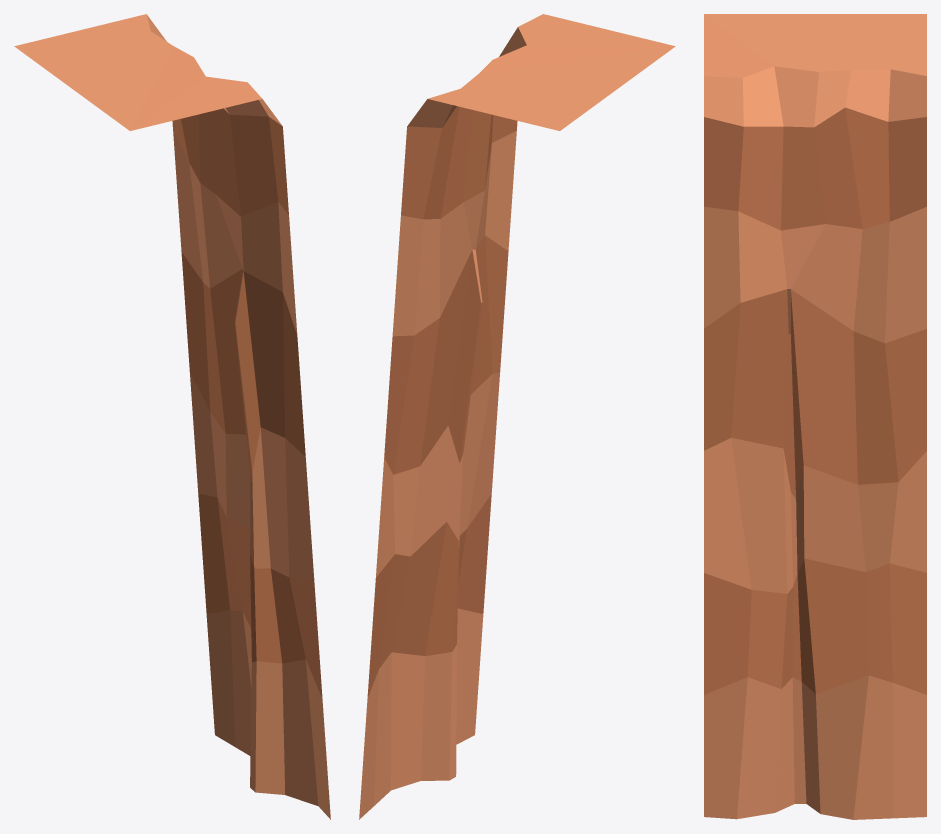
File: Straight_Cliff_1.fbx
The picture shows the model from 3 angles, left to right: view 1: azimuth 30°, elevation 25°; view 2: azimuth 150°, elevation 25°; view 3: azimuth 270°, elevation 25°; orthographic projection. The views are drawn at different scales.
Visible parts, largest first — view 1: Straight_Cliff_1; view 2: Straight_Cliff_1; view 3: Straight_Cliff_1.
Part boxes in pixels (x1,y1,x2,y2): Straight_Cliff_1: (14,14,330,819); Straight_Cliff_1: (359,14,675,819); Straight_Cliff_1: (704,14,926,819).
Size of the model in its own units: 206 by 703 by 200.
